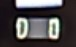COMP: (11, 13, 64, 43)
GAP: (15, 1, 60, 26)
